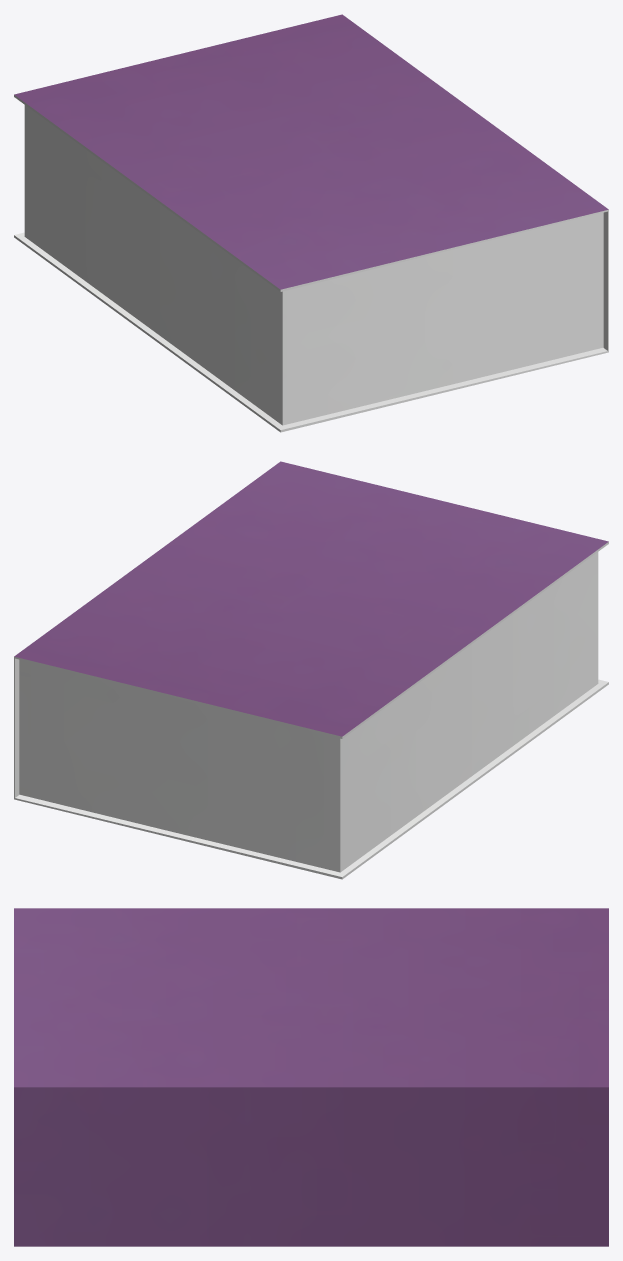
The model's file is Book_1.fbx.
3 views of the same model, one above another, from view 1: azimuth 30°, elevation 25°; view 2: azimuth 150°, elevation 25°; view 3: azimuth 270°, elevation 25° (orthographic). The views are drawn at different scales.
Parts seen in each view (by area): view 1: Book 1; view 2: Book 1; view 3: Book 1.
Boxes of the visible parts, left/top/right/bottom form: Book 1: left=14, top=14, right=608, bottom=432; Book 1: left=14, top=461, right=608, bottom=879; Book 1: left=14, top=908, right=608, bottom=1246.
Bounding box in the file's own units: 21.61 × 8.98 × 30.4.
